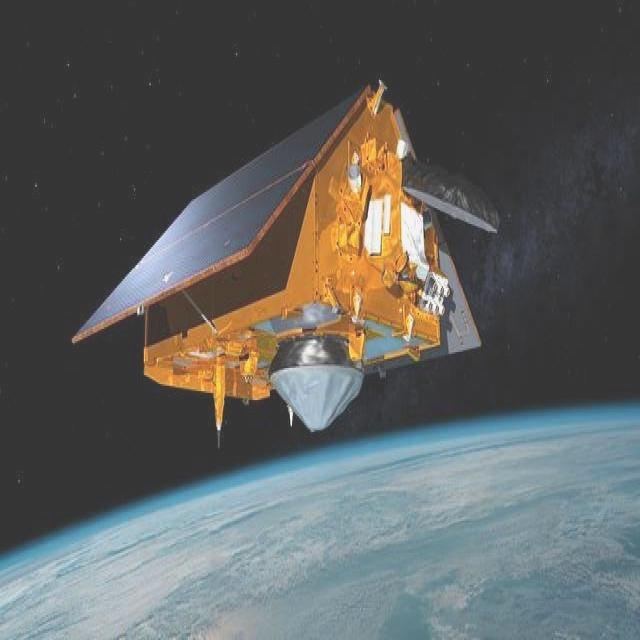medium_debris: (78, 74, 488, 475)
